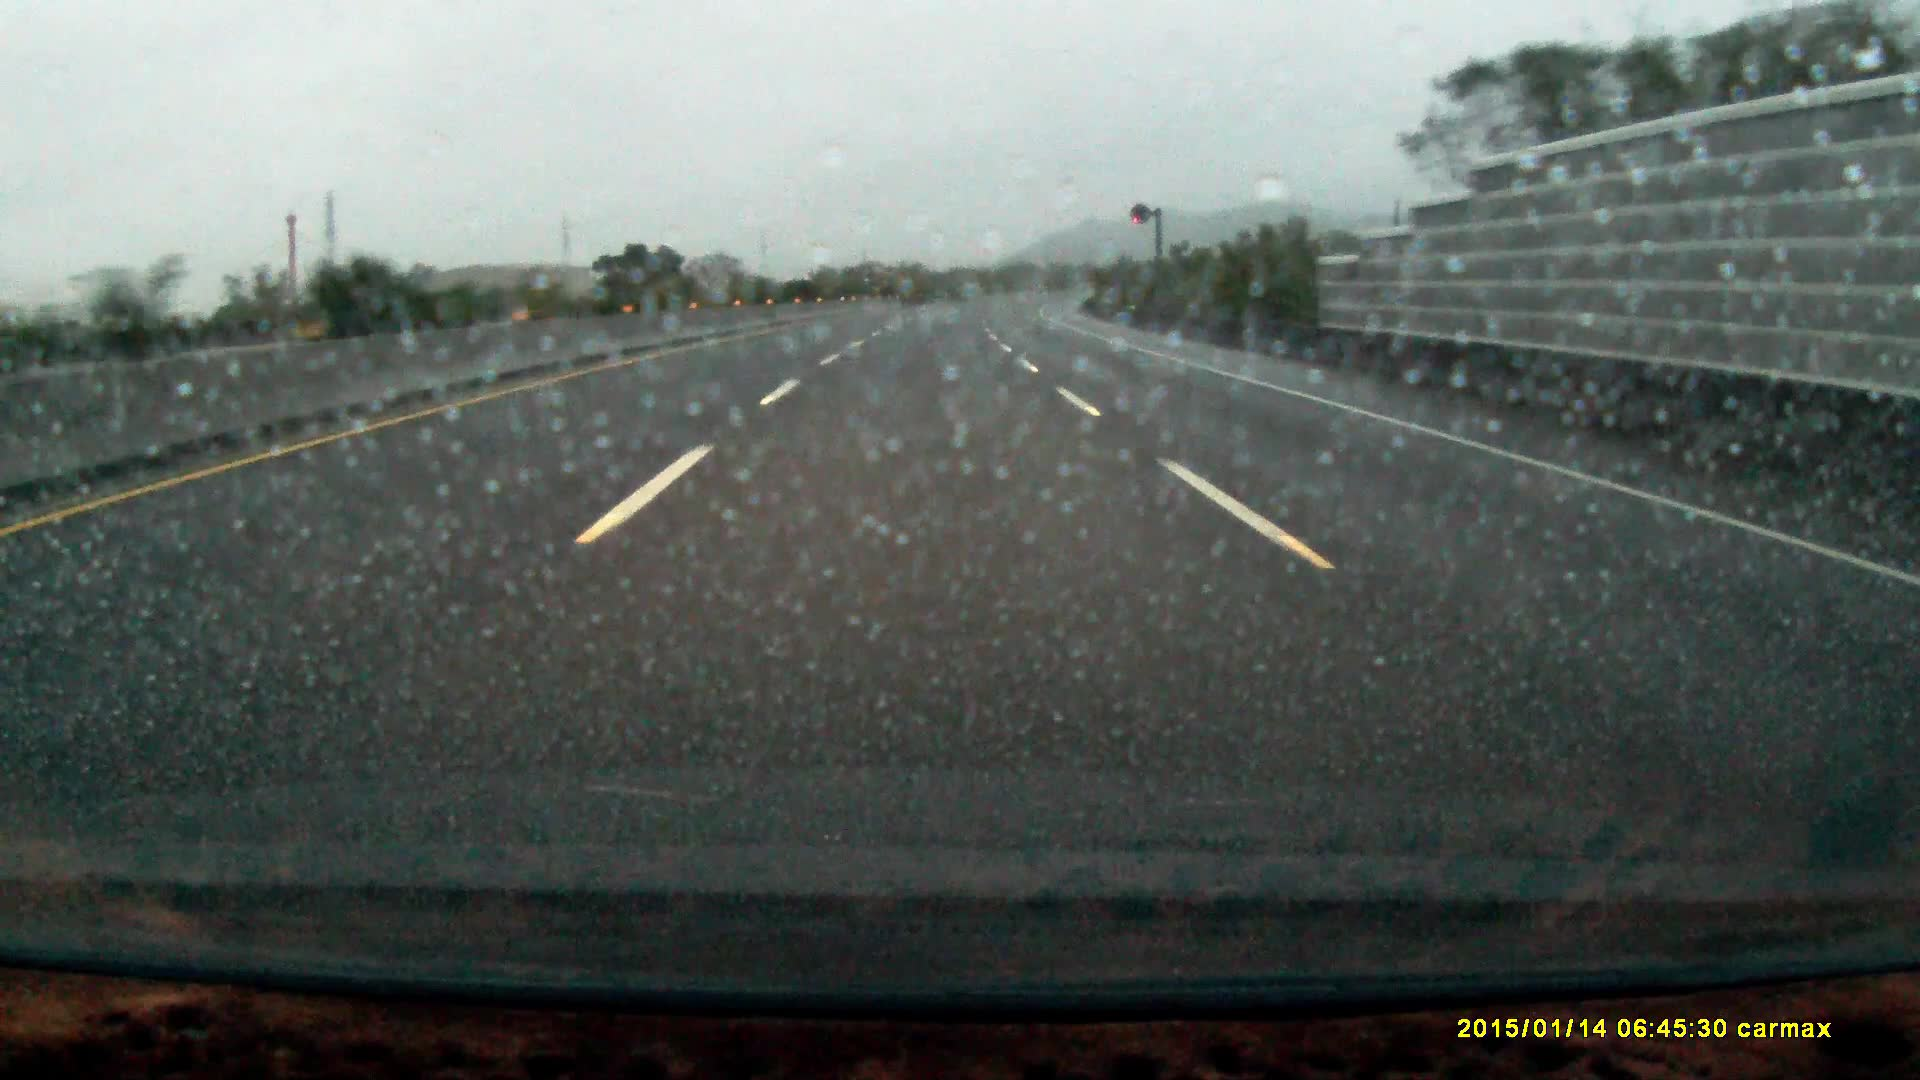vehicle: (855, 270, 895, 306)
